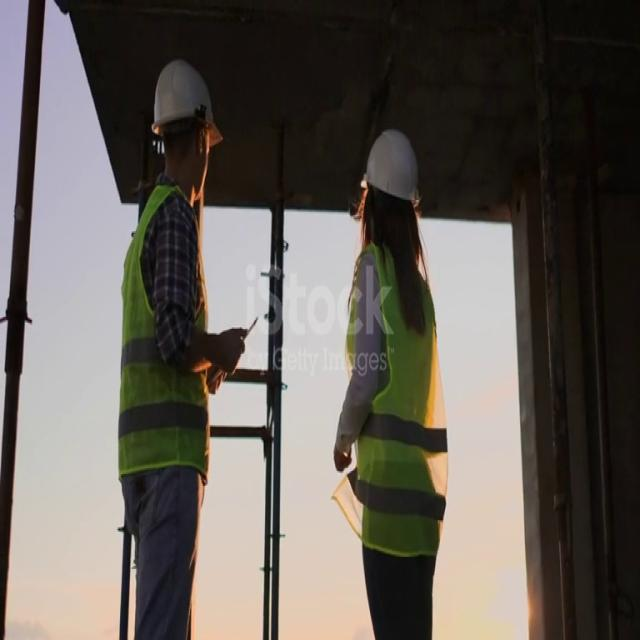capacete: (141, 43, 233, 151), (350, 125, 427, 220)
